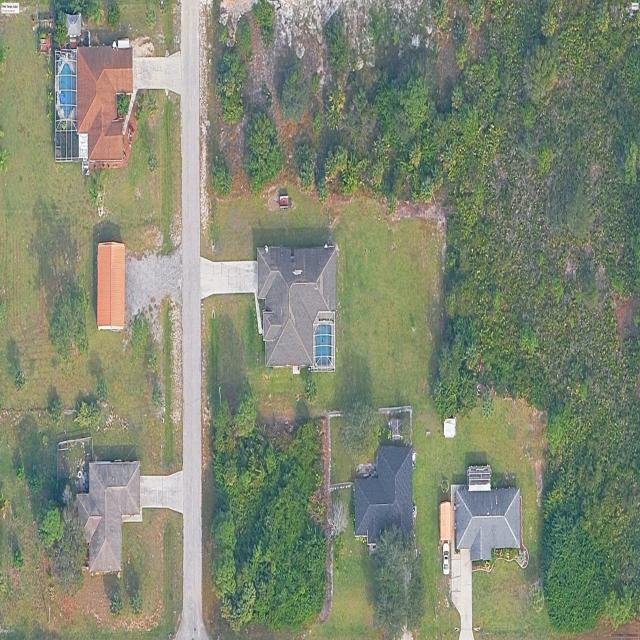Home: (255, 245, 336, 371), (77, 461, 141, 572), (77, 47, 133, 162), (354, 445, 413, 546), (454, 487, 521, 560), (97, 242, 125, 331)
